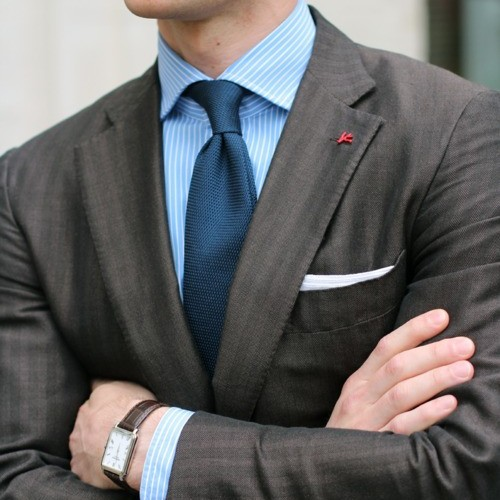tie: (170, 77, 278, 391)
